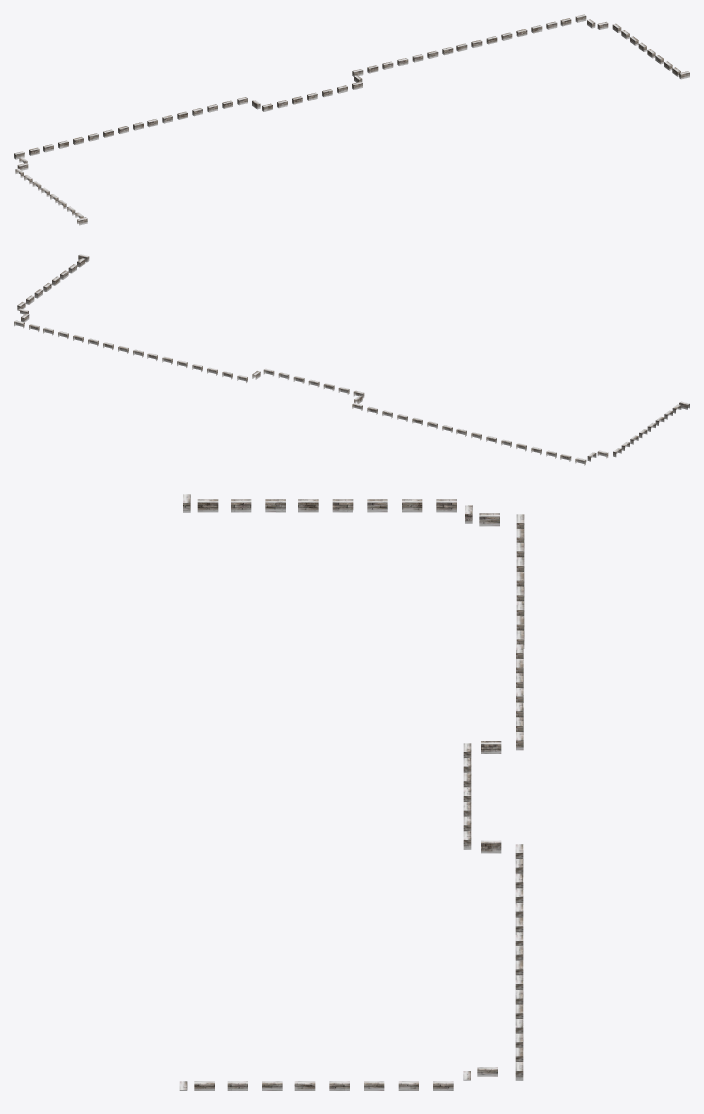
The picture shows the model from 3 angles, top to bottom: view 1: azimuth 30°, elevation 25°; view 2: azimuth 150°, elevation 25°; view 3: azimuth 270°, elevation 25°; orthographic projection. The views are drawn at different scales.
Visible parts, largest first — view 1: Object05; view 2: Object05; view 3: Object05.
Part boxes in pixels (x1=…): Object05: x1=14, y1=14, x2=689, y2=225; Object05: x1=14, y1=254, x2=689, y2=465; Object05: x1=179, y1=494, x2=524, y2=1090.
Bounding box in the file's own units: 2327 × 17.66 × 569.
